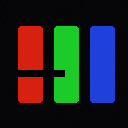3 line_h: (16, 70, 64, 76)
